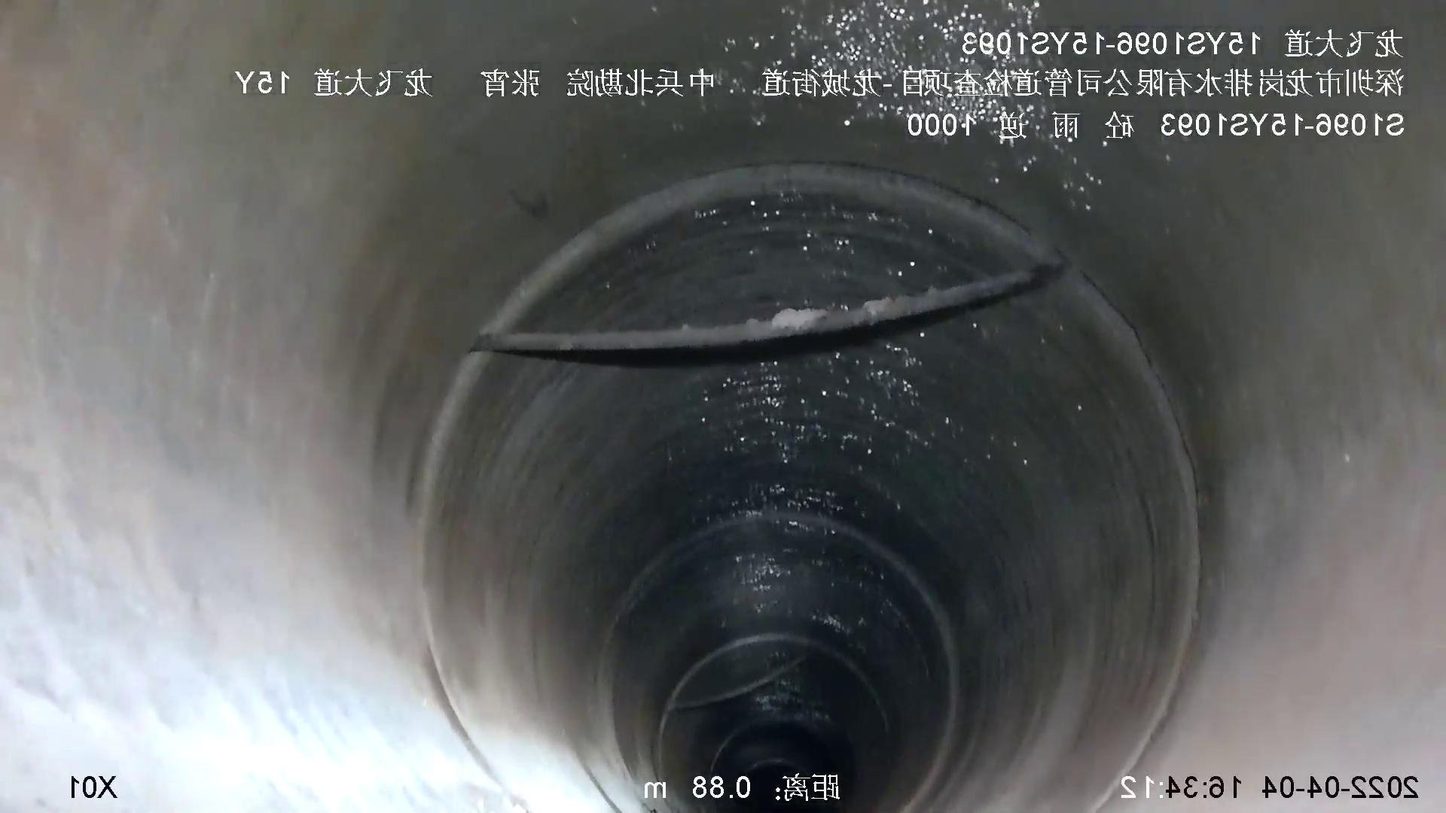YWCR: (472, 257, 1063, 367)
